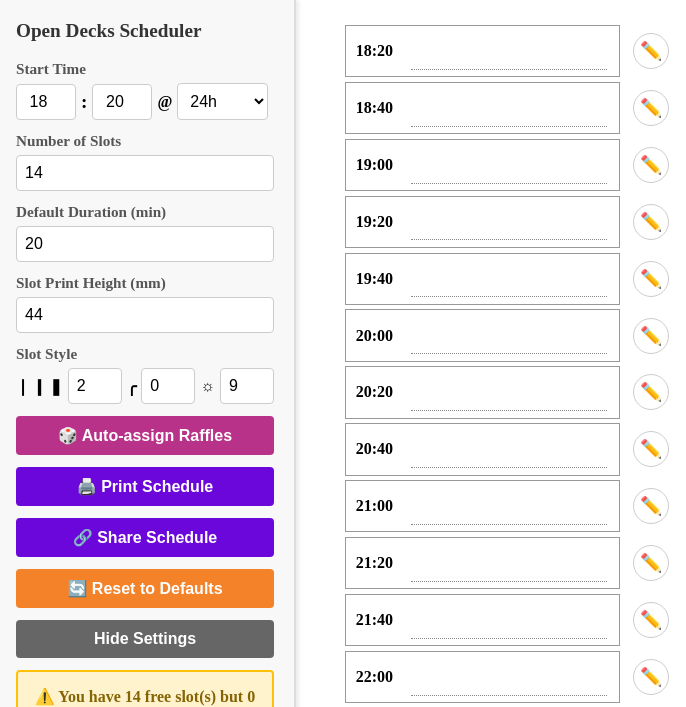
Test: App Component › should update start time when changed
This screenshot has width=686, height=707.
Replace the text in the number field named "Start hour" with "10": (46, 102) [16, 84, 76, 120]
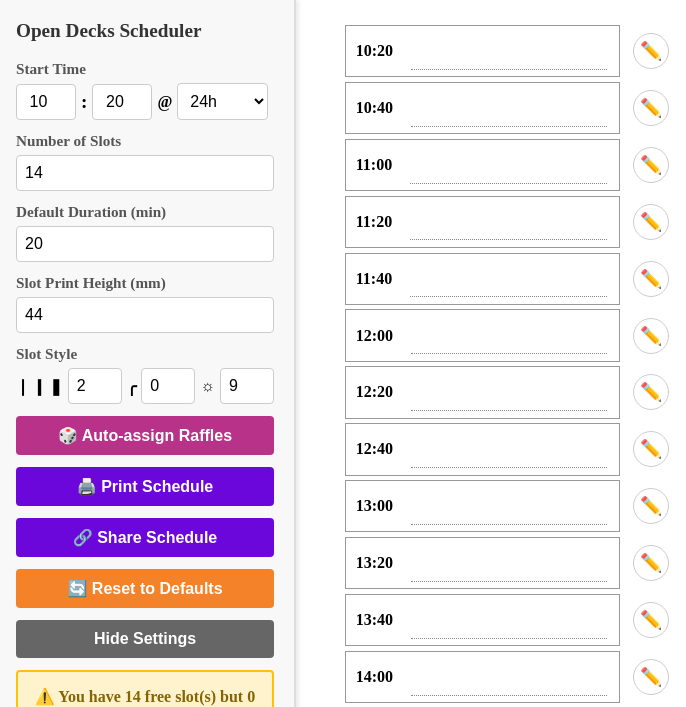
Replace the text in the number field named "Start minute" with "30": (122, 102) [92, 84, 152, 120]
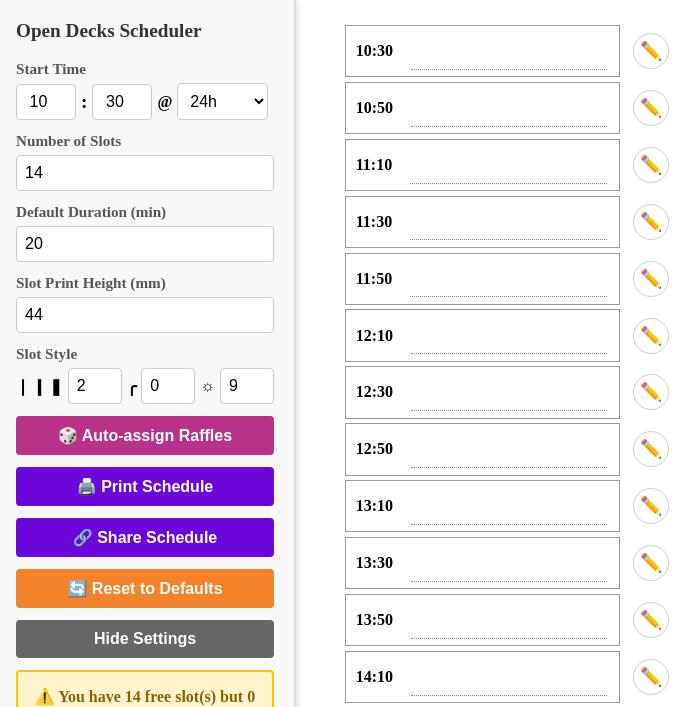
Expected: the text "10:30" is shown, [356, 42, 393, 60]
